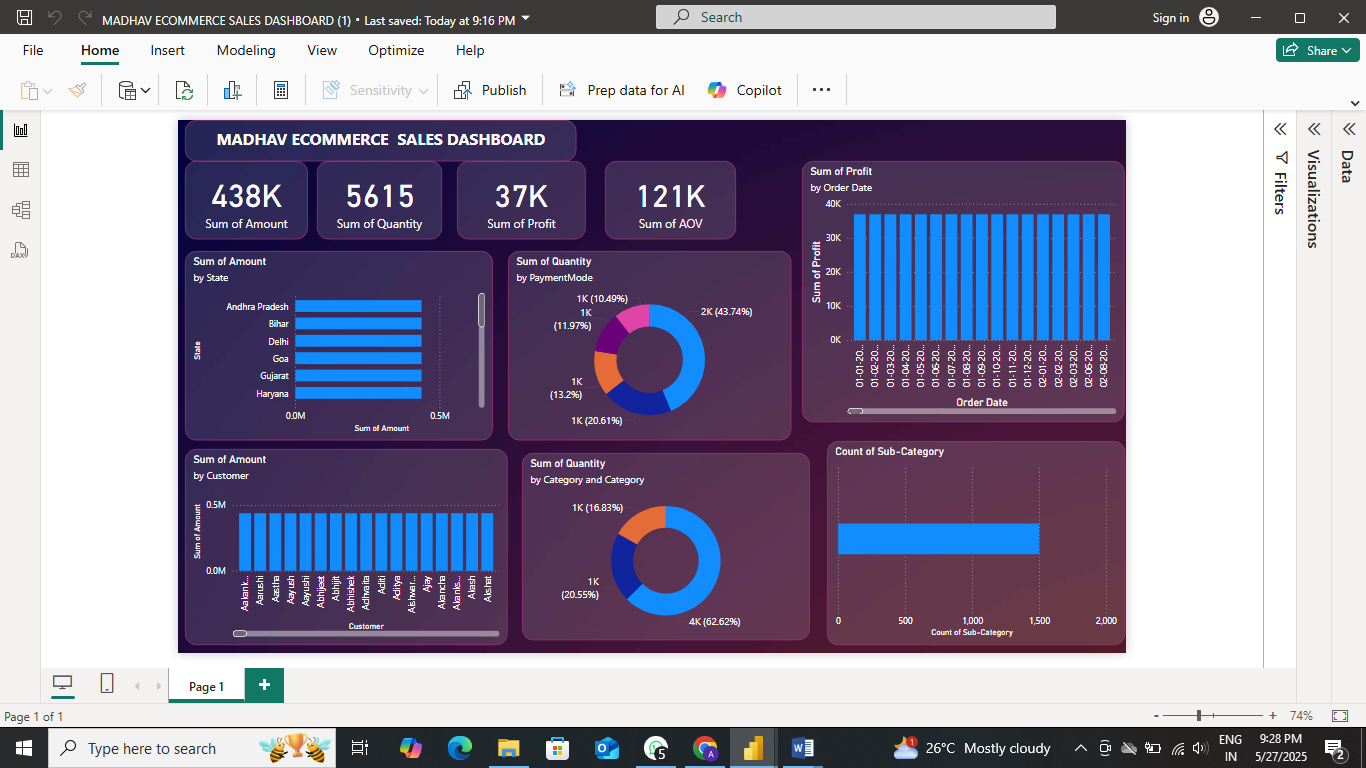

Layout of this report page (visuals, bound fields, positions):
{"tool":"powerbi","page":{"name":"Page 1","canvas":[1280,720],"ordinal":0},"visuals":[{"type":"textbox","box":[10,0,529.2,55.8],"z":0},{"type":"columnChart","fields":{"Category":["Orders.Order Date"],"Y":["Details.Profit"]},"box":[843.8,55.8,436.2,353.3],"z":1000},{"type":"barChart","fields":{"Y":["Details.Sub-Category"]},"box":[876.7,433.3,403.3,276],"z":2000},{"type":"donutChart","fields":{"Category":["Details.Category"],"Series":["Details.Category"],"Y":["Details.Quantity"]},"box":[464.8,450.5,389,253.1],"z":3000},{"type":"donutChart","fields":{"Category":["Details.PaymentMode"],"Y":["Details.Quantity"]},"box":[446.2,177.3,383.3,256],"z":4000},{"type":"card","fields":{"Values":["Details.Amount"]},"box":[10,55.8,165.9,105.8],"z":5000},{"type":"card","fields":{"Values":["Details.Quantity"]},"box":[187.4,55.8,168.8,105.8],"z":6000},{"type":"card","fields":{"Values":["Details.Profit"]},"box":[377.6,55.8,174.5,105.8],"z":7000},{"type":"card","fields":{"Values":["Details.AOV"]},"box":[576.4,55.8,177.3,105.8],"z":8000},{"type":"barChart","fields":{"Category":["Orders.State"],"Y":["Details.Amount"]},"box":[10,177.3,416.2,256],"z":9000},{"type":"columnChart","fields":{"Category":["Orders.Customer"],"Y":["Details.Amount"]},"box":[10,444.8,436.2,264.6],"z":10000}]}

Visuals, with their boxes on the page's 1280x720 design canvas (x1, y1, x2, y2). These are canvas units, not pixel positions in the 1366x768 screenshot, which may show the page scaled, cropped or inside an application window:
textbox: box(10, 0, 539, 56)
columnChart - Orders.Order Date x Details.Profit: box(844, 56, 1280, 409)
barChart - Details.Sub-Category: box(877, 433, 1280, 709)
donutChart - Details.Category x Details.Category: box(465, 450, 854, 704)
donutChart - Details.PaymentMode x Details.Quantity: box(446, 177, 830, 433)
card - Details.Amount: box(10, 56, 176, 162)
card - Details.Quantity: box(187, 56, 356, 162)
card - Details.Profit: box(378, 56, 552, 162)
card - Details.AOV: box(576, 56, 754, 162)
barChart - Orders.State x Details.Amount: box(10, 177, 426, 433)
columnChart - Orders.Customer x Details.Amount: box(10, 445, 446, 709)
